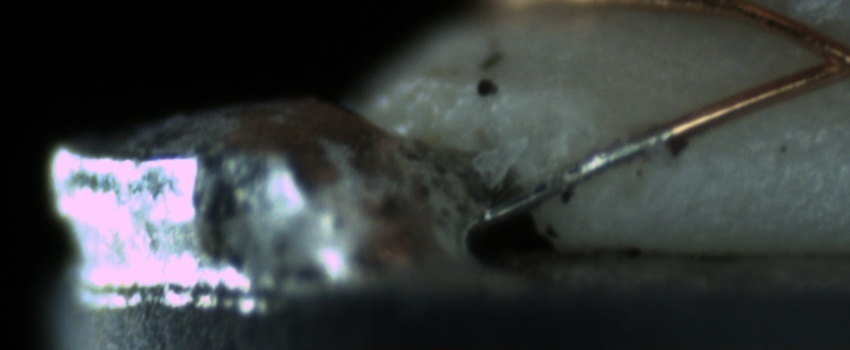CL: (797, 25, 850, 90)
TS: (479, 125, 672, 221)
